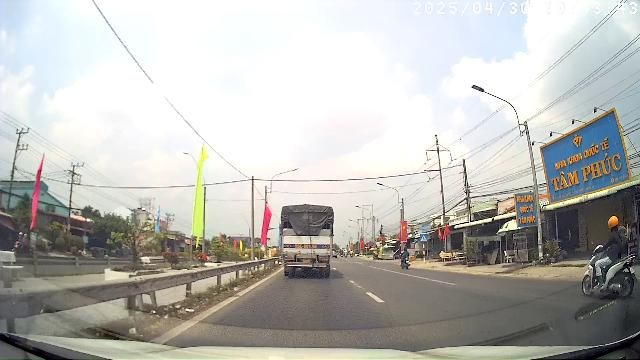423a-duong-nguoi-di-bo-sang-ngang-1: (420, 234, 428, 242)
